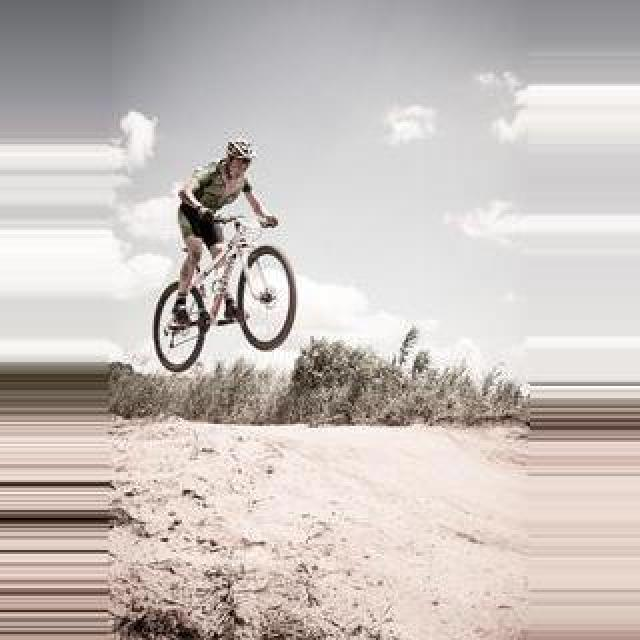MC-Bike: (174, 132, 280, 328)
Person: (152, 209, 298, 375)
